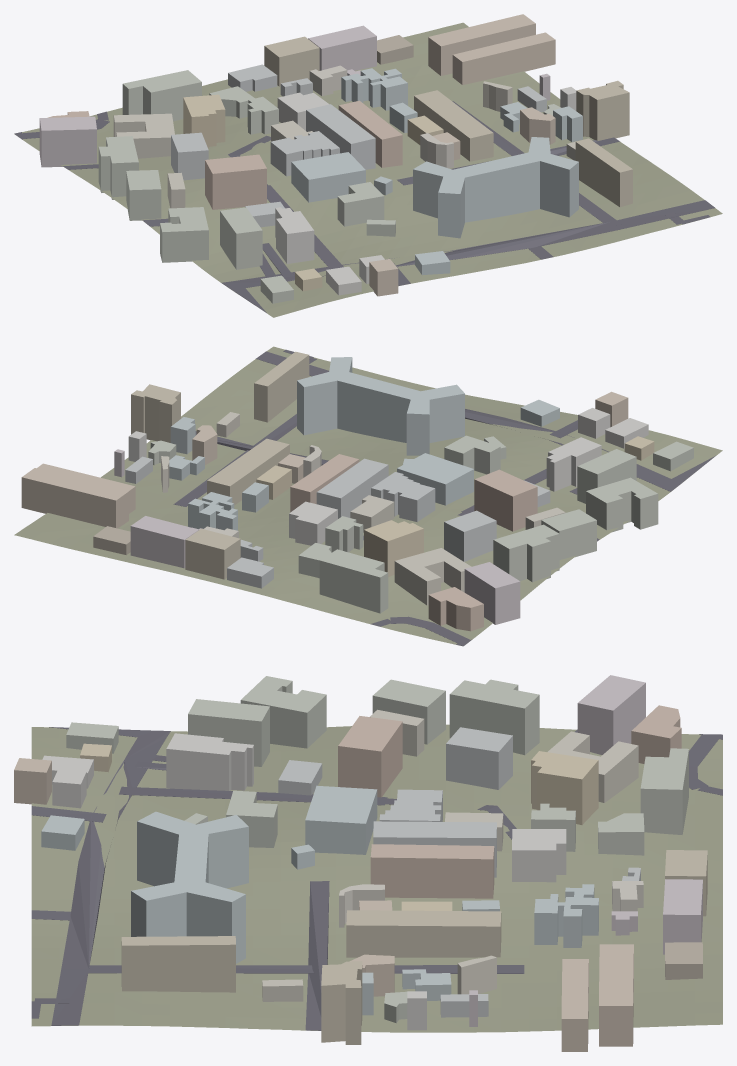
File: chunk_3_0.glb
The picture shows the model from 3 angles, top to bottom: view 1: azimuth 30°, elevation 25°; view 2: azimuth 150°, elevation 25°; view 3: azimuth 270°, elevation 25°; orthographic projection. The views are drawn at different scales.
Parts seen in each view (by area): view 1: geometry_58, geometry_0, geometry_59, geometry_55, geometry_15, geometry_56, geometry_29, geometry_1, geometry_8, geometry_41, geometry_57, geometry_45 (+40 smaller); view 2: geometry_58, geometry_0, geometry_56, geometry_29, geometry_18, geometry_11, geometry_15, geometry_14, geometry_1, geometry_20, geometry_41, geometry_45 (+38 smaller); view 3: geometry_58, geometry_0, geometry_41, geometry_59, geometry_35, geometry_45, geometry_11, geometry_7, geometry_8, geometry_15, geometry_1, geometry_26 (+44 smaller).
Boxes of the visible parts, box(x1,y1,x2,y2) form: geometry_58: box(14, 22, 722, 317); geometry_0: box(413, 137, 578, 238); geometry_59: box(221, 200, 714, 288); geometry_55: box(452, 32, 555, 84); geometry_15: box(205, 154, 266, 209); geometry_56: box(428, 14, 535, 75); geometry_29: box(122, 70, 201, 121); geometry_1: box(39, 116, 96, 167); geometry_8: box(291, 152, 365, 202); geometry_41: box(414, 90, 493, 161); geometry_57: box(576, 80, 629, 140); geometry_45: box(575, 138, 632, 207); geometry_58: box(14, 346, 722, 646); geometry_0: box(297, 357, 464, 455); geometry_56: box(21, 468, 128, 528); geometry_29: box(319, 549, 388, 613); geometry_18: box(586, 477, 658, 532); geometry_11: box(493, 524, 559, 582); geometry_15: box(474, 469, 537, 531); geometry_14: box(394, 548, 471, 605); geometry_1: box(464, 562, 520, 624); geometry_20: box(130, 516, 198, 568); geometry_41: box(207, 438, 289, 505); geometry_45: box(254, 351, 309, 422); geometry_58: box(31, 724, 722, 1032); geometry_0: box(131, 811, 248, 963); geometry_41: box(346, 910, 501, 957); geometry_59: box(51, 730, 170, 1025); geometry_35: box(370, 844, 494, 898); geometry_45: box(121, 936, 235, 992); geometry_11: box(449, 679, 539, 755); geometry_7: box(166, 733, 253, 790); geometry_8: box(305, 785, 377, 854); geometry_15: box(338, 716, 402, 797); geometry_1: box(577, 675, 645, 754); geometry_26: box(531, 751, 598, 824).
Bounding box in the file's own units: 280 × 26.76 × 256.
